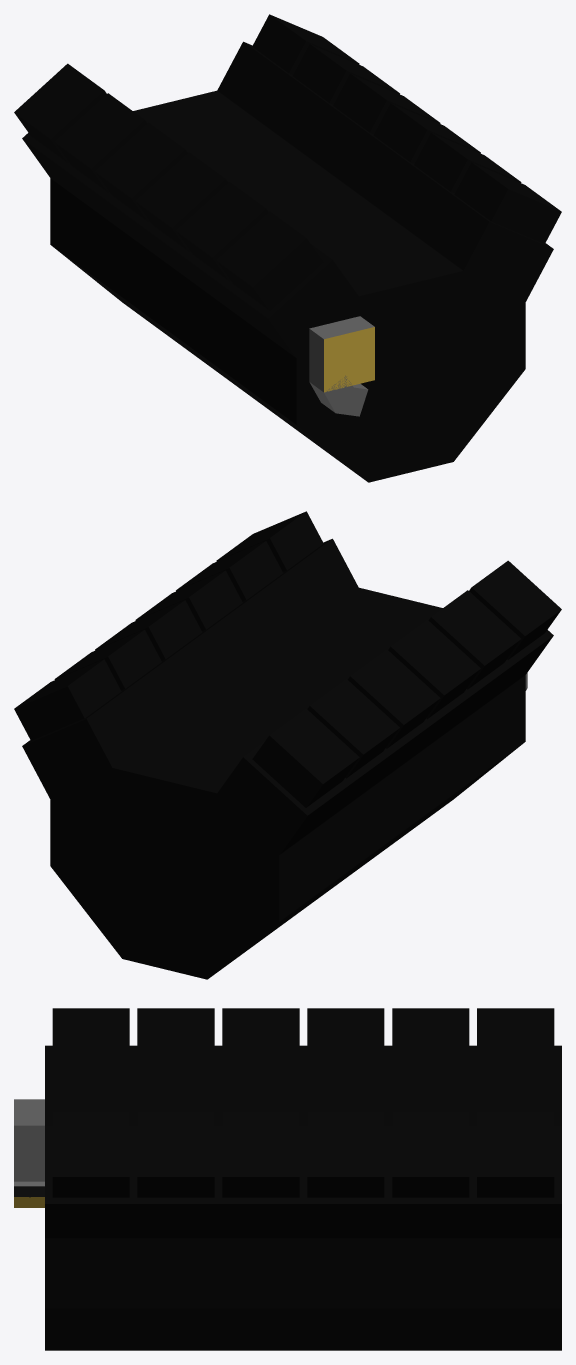
File: v91turbo.obj
3 renders of one model, top to bottom at view 1: azimuth 30°, elevation 25°; view 2: azimuth 150°, elevation 25°; view 3: azimuth 270°, elevation 25°, orthographic. The views are drawn at different scales.
Parts seen in each view (by area): view 1: cube, turbo; view 2: cube; view 3: cube, turbo.
Part boxes in pixels (box(x1,y1,x2,y2)): cube: box(14, 14, 561, 482); turbo: box(309, 316, 374, 416); cube: box(14, 511, 561, 979); cube: box(45, 1008, 561, 1350); turbo: box(14, 1099, 44, 1207).
Bounding box in the file's own units: 0.9499 × 0.7516 × 1.39.
